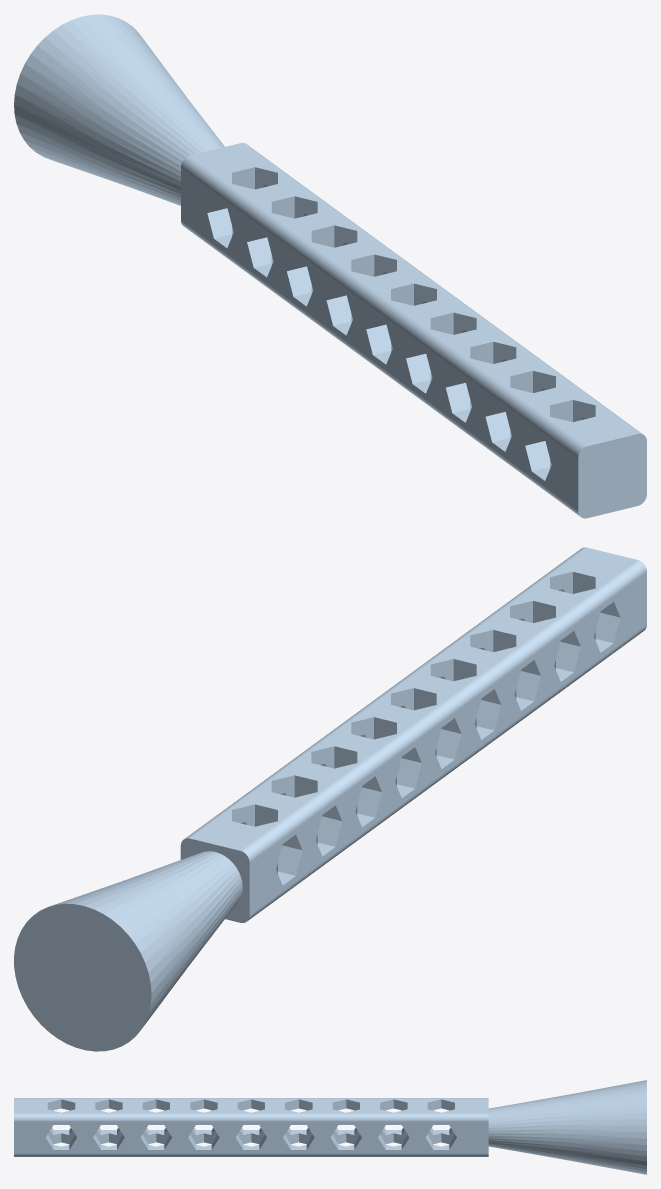
The model's file is Brush Tool v1.glb.
3 renders of one model, top to bottom at view 1: azimuth 30°, elevation 25°; view 2: azimuth 150°, elevation 25°; view 3: azimuth 270°, elevation 25°, orthographic. The views are drawn at different scales.
Bounding box in the file's own units: 29.97 × 29.98 × 200.
